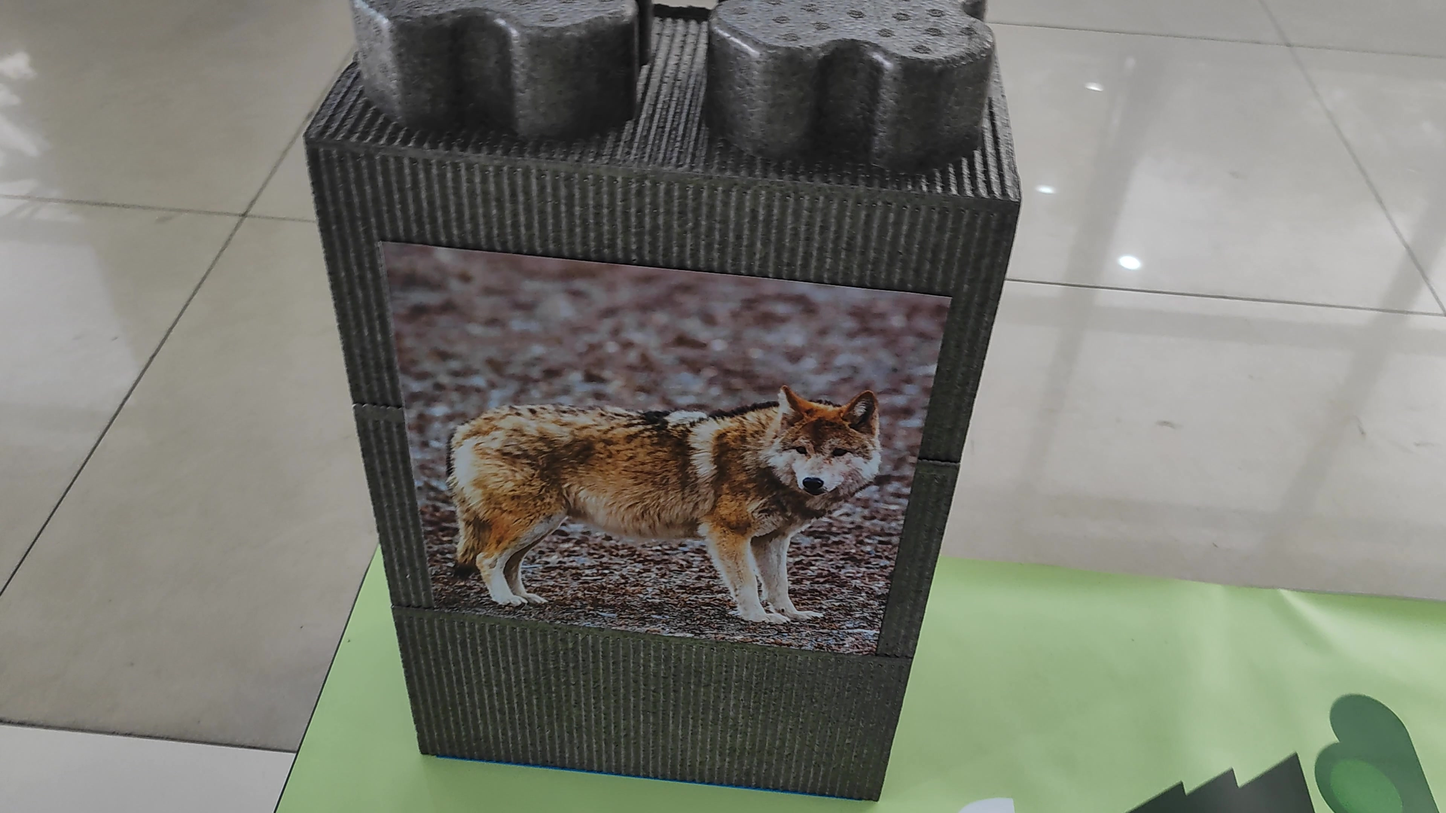wolf: (422, 329, 897, 654)
